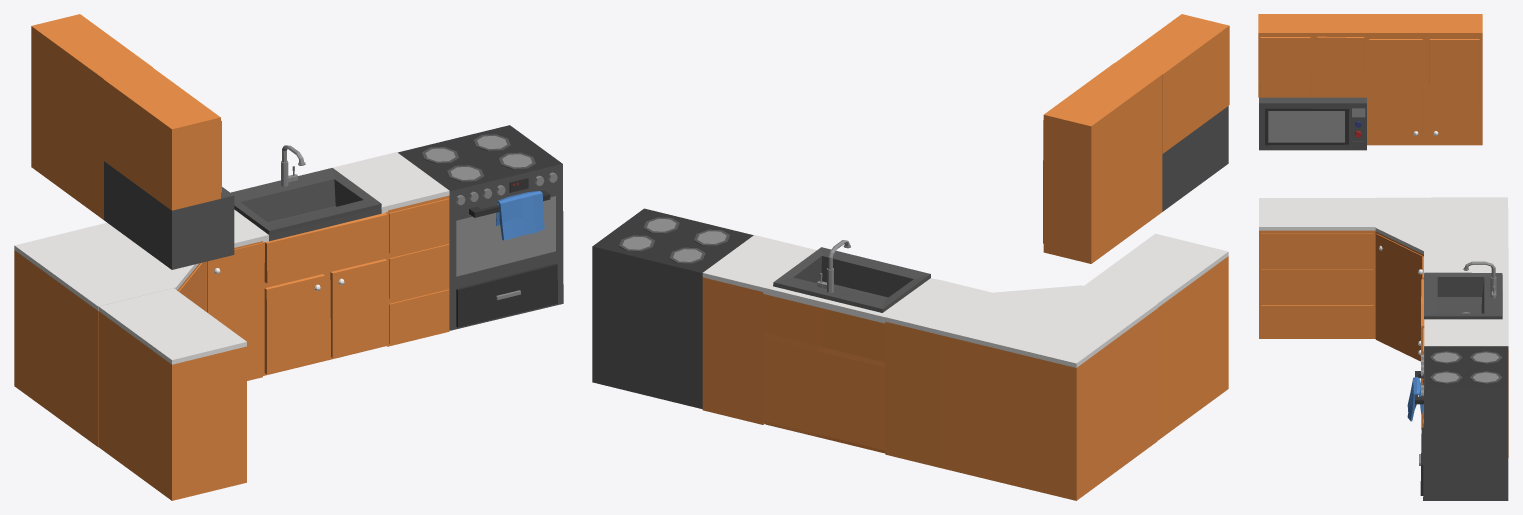
Rendered from Kitchen_set_10.fbx.
3 renders of one model, left to right at view 1: azimuth 30°, elevation 25°; view 2: azimuth 150°, elevation 25°; view 3: azimuth 270°, elevation 25°, orthographic. The views are drawn at different scales.
Visible parts, largest first — view 1: Kitchen_set_10; view 2: Kitchen_set_10; view 3: Kitchen_set_10.
Boxes of the visible parts, bbox=[...] form: Kitchen_set_10: bbox=[14, 14, 563, 500]; Kitchen_set_10: bbox=[592, 14, 1229, 500]; Kitchen_set_10: bbox=[1258, 14, 1508, 500].
Size of the model in its own units: 476 by 262 by 342.
